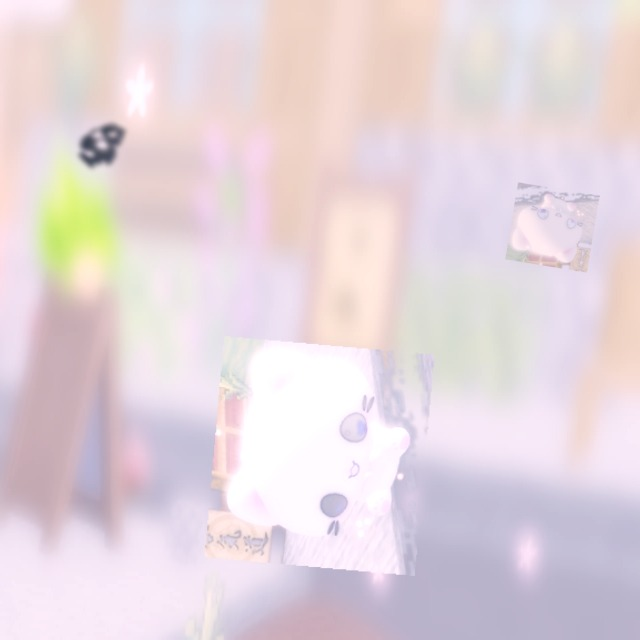urso_branco: (204, 335, 435, 577), (505, 182, 600, 273)
urso_preto: (71, 110, 139, 179)
